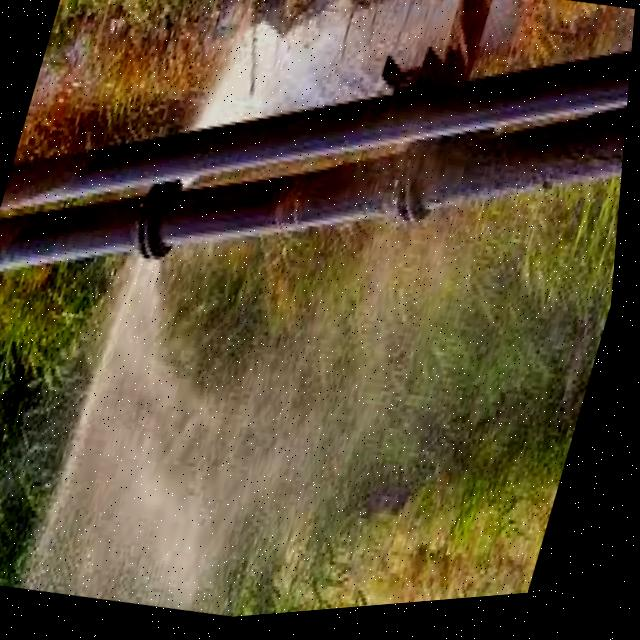corrosion: (45, 161, 247, 374)
